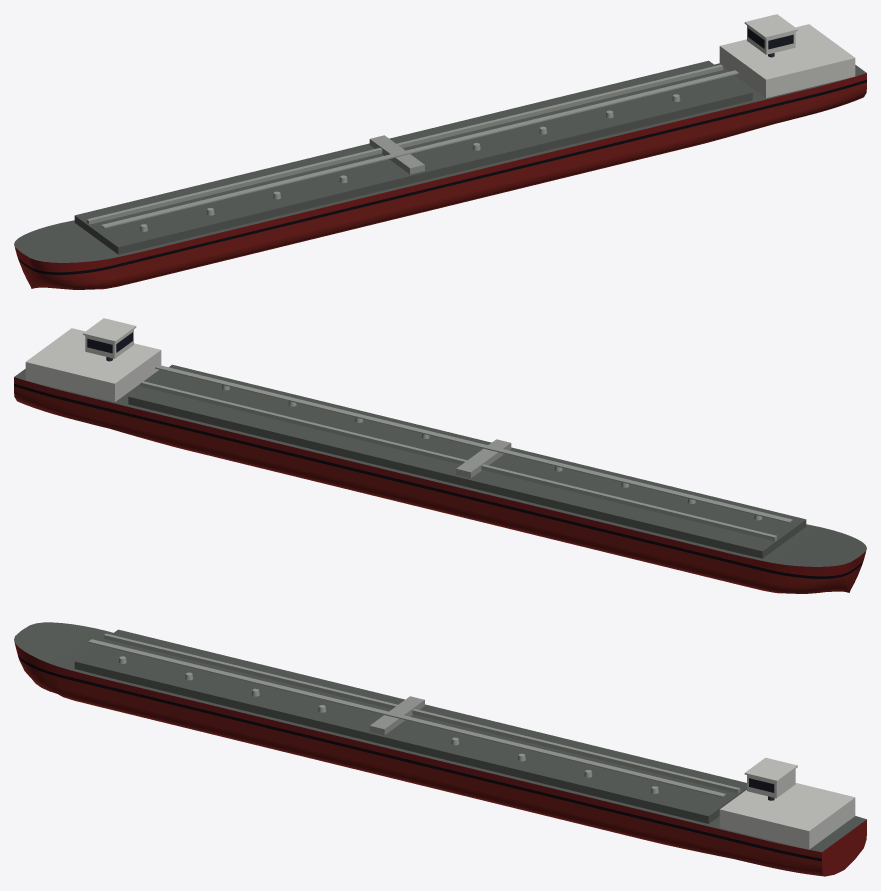
Rendered from inland_tanker.glb.
The picture shows the model from 3 angles, top to bottom: view 1: azimuth 30°, elevation 25°; view 2: azimuth 150°, elevation 25°; view 3: azimuth 330°, elevation 25°; orthographic projection.
Parts seen in each view (by area): view 1: inland_tanker; view 2: inland_tanker; view 3: inland_tanker.
Part boxes in pixels (bbox=[...]): inland_tanker: bbox=[14, 14, 866, 289]; inland_tanker: bbox=[14, 318, 866, 593]; inland_tanker: bbox=[14, 622, 866, 876].
Size of the model in its own units: 111 by 10.69 by 11.44.
